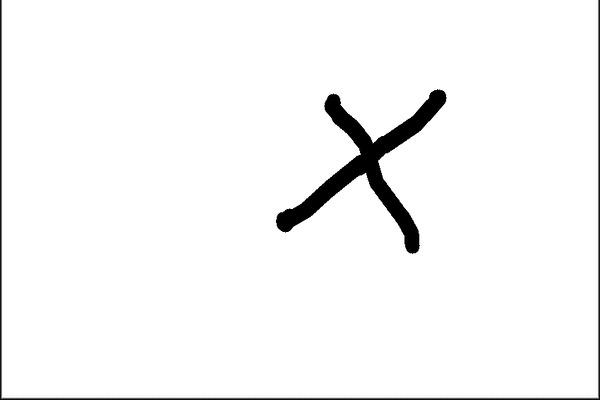X: (259, 67, 451, 255)
